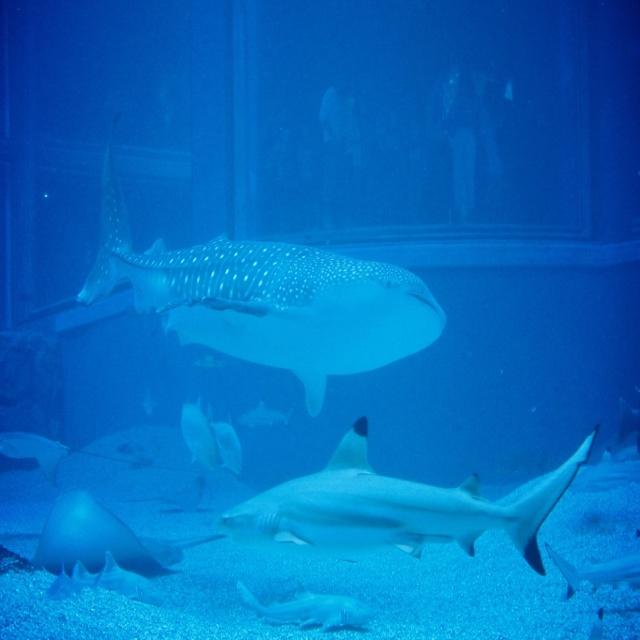Shark: (77, 108, 445, 418), (219, 432, 597, 576)
